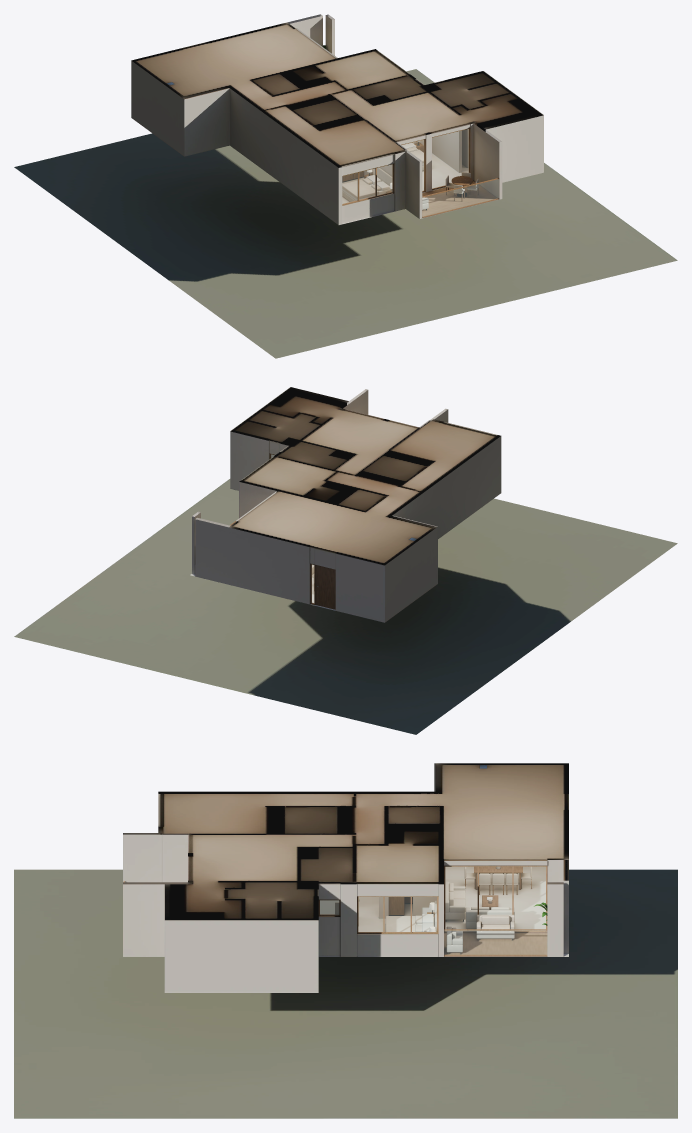
3 views of the same model, one above another, from view 1: azimuth 30°, elevation 25°; view 2: azimuth 150°, elevation 25°; view 3: azimuth 270°, elevation 25° (orthographic). The views are drawn at different scales.
Visible parts, largest first — view 1: D5_piso, D5_muros, D5_vidrio, D5_muebles, D5_carp; view 2: D5_piso, D5_muros, D5_carp; view 3: D5_piso, D5_muros, D5_vidrio, D5_muebles, D5_carp.
Boxes of the visible parts, bbox=[...] form: D5_piso: bbox=[14, 69, 677, 358]; D5_muros: bbox=[131, 14, 543, 224]; D5_vidrio: bbox=[342, 129, 498, 216]; D5_muebles: bbox=[167, 45, 478, 210]; D5_carp: bbox=[334, 55, 499, 217]; D5_piso: bbox=[14, 479, 677, 734]; D5_muros: bbox=[192, 387, 501, 622]; D5_carp: bbox=[230, 453, 335, 609]; D5_piso: bbox=[14, 866, 677, 1118]; D5_muros: bbox=[123, 763, 568, 992]; D5_vidrio: bbox=[320, 867, 546, 954]; D5_muebles: bbox=[359, 765, 547, 954]; D5_carp: bbox=[123, 860, 567, 956].
Bounding box in the file's own units: 21.65 × 6.17 × 24.4.
Materials: 5 (4 with a texture image).
